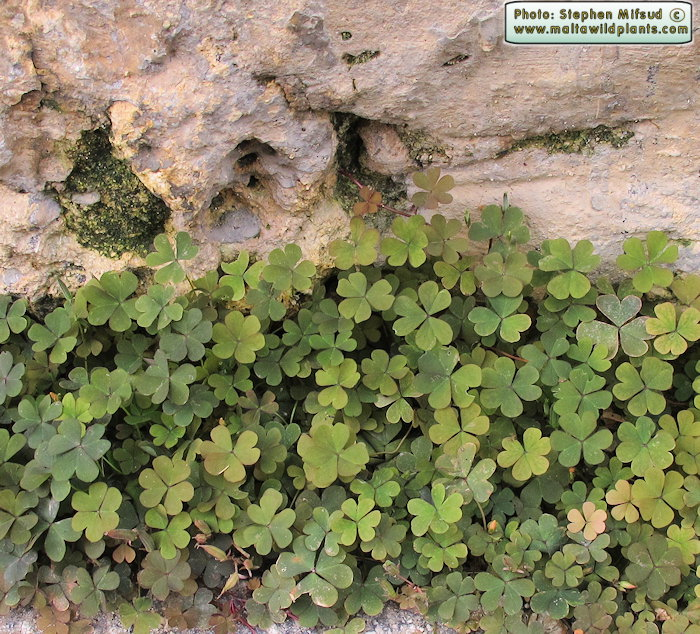oxalis: (33, 216, 700, 633)
